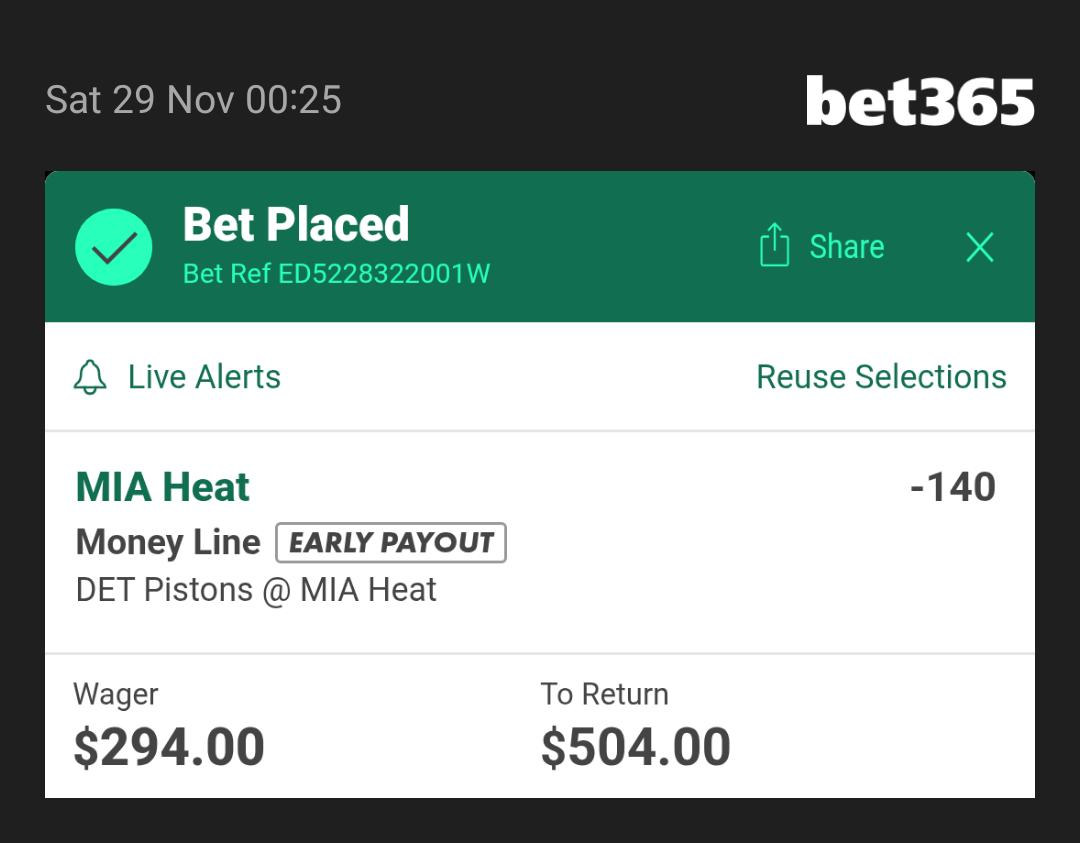game: (74, 569, 441, 622)
odds: (900, 468, 1003, 512)
payout: (541, 720, 732, 778)
wager: (69, 719, 270, 783)
